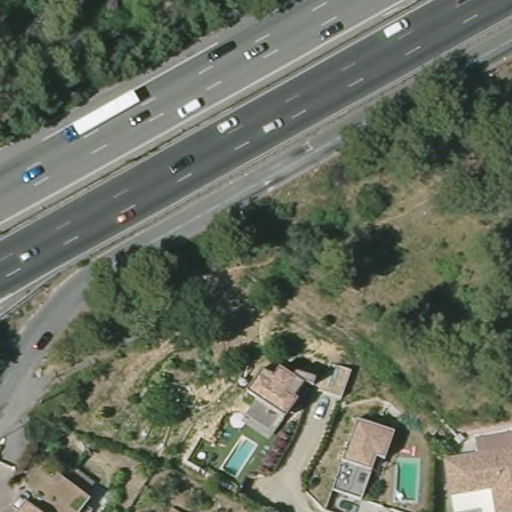pool: (390, 453, 427, 512), (218, 430, 257, 480)
